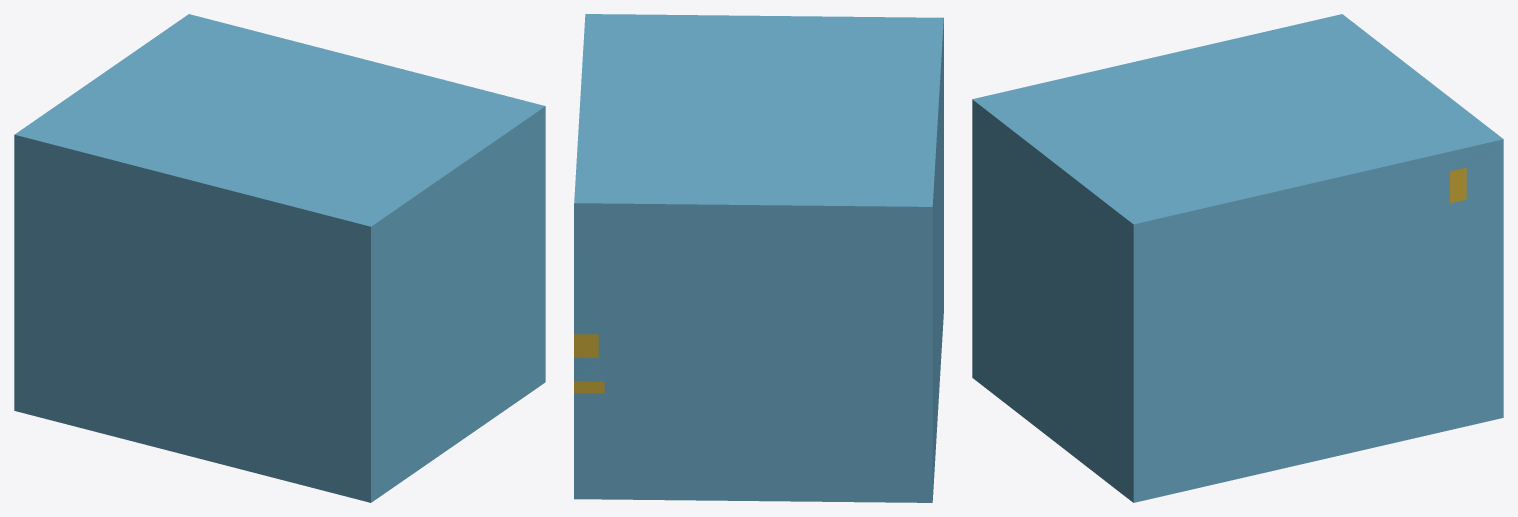
Rendered from bldg_4f6a8526-7f35-4c82-94fc-6354f07efd6d.obj.
3 renders of one model, left to right at view 1: azimuth 30°, elevation 25°; view 2: azimuth 150°, elevation 25°; view 3: azimuth 270°, elevation 25°, orthographic. The views are drawn at different scales.
Bounding box in the file's own units: 12.25 × 7.56 × 13.07.
